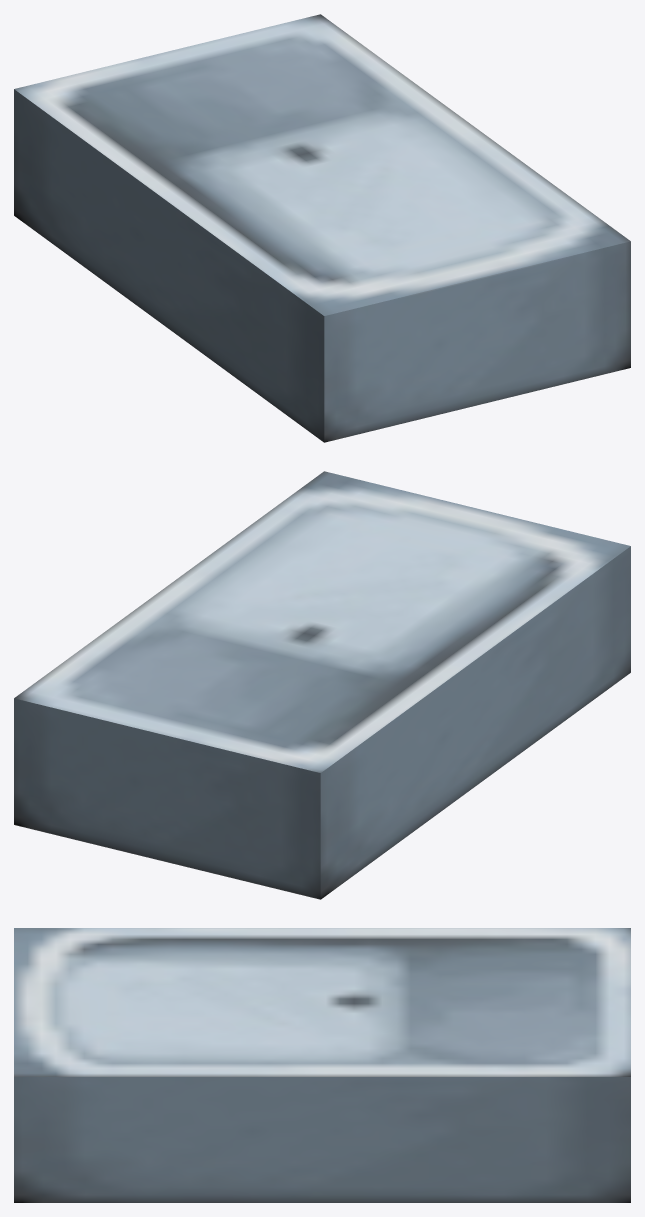
Rendered from tub.glb.
3 renders of one model, top to bottom at view 1: azimuth 30°, elevation 25°; view 2: azimuth 150°, elevation 25°; view 3: azimuth 270°, elevation 25°, orthographic.
Visible parts, largest first — view 1: objects; view 2: objects; view 3: objects.
Part boxes in pixels (x1,y1,x2,y2): objects: [14, 14, 630, 442]; objects: [14, 471, 630, 899]; objects: [14, 928, 630, 1202].
Size of the model in its own units: 38.04 by 15 by 66.64.
1 material, 1 textured.
